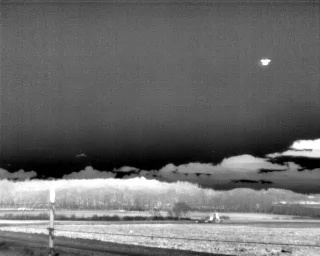DRONE: (256, 55, 274, 70)
